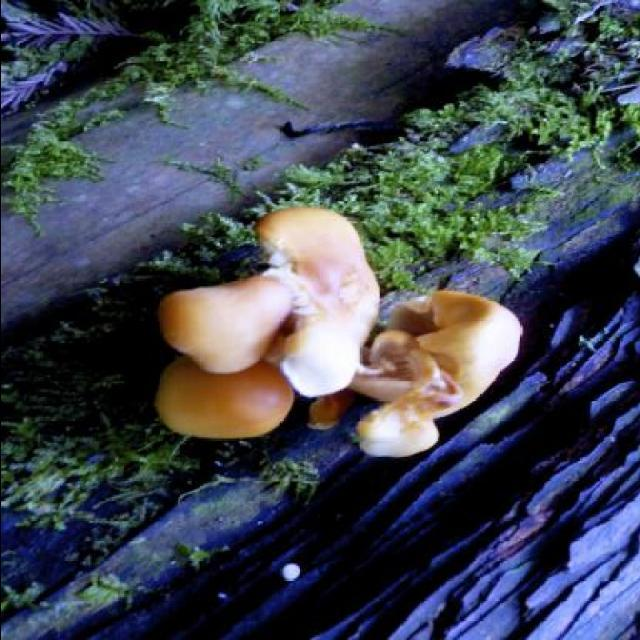Mushroom: (153, 207, 524, 459)
